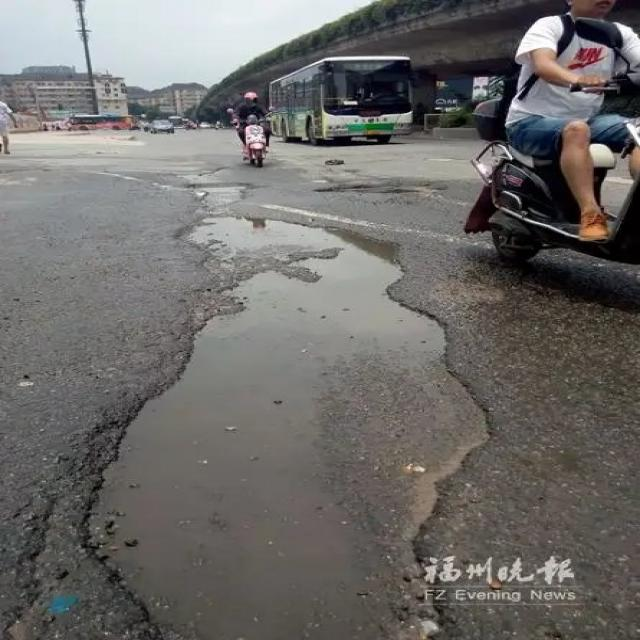Pothole: (65, 214, 502, 639), (171, 168, 258, 212), (324, 183, 450, 200)
